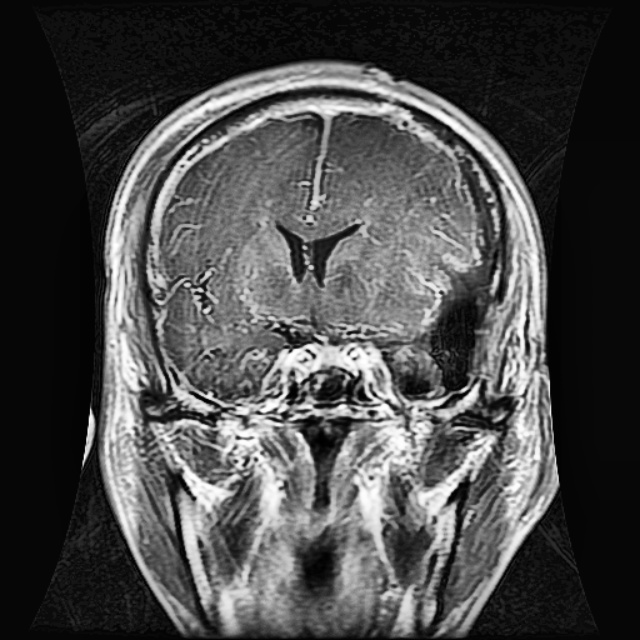Meningioma: (375, 152, 502, 402)
